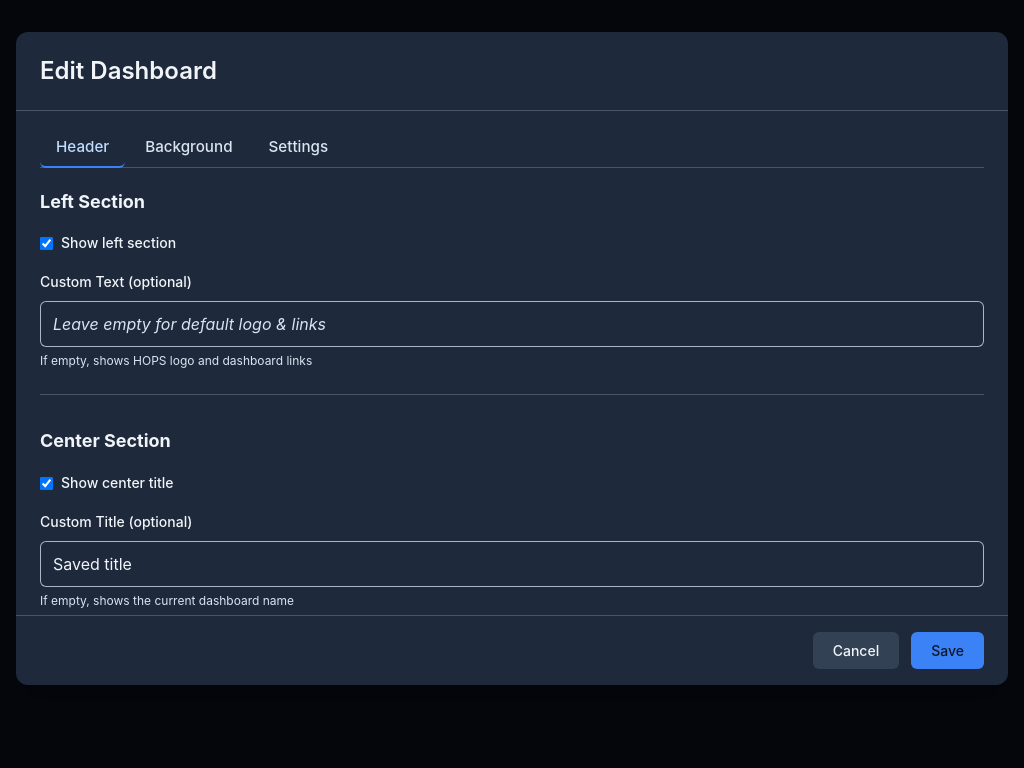
Test: DashboardEditModal: one dialog, one Save, one Cancel › has three sections: Header, Background and Settings
Click the tab "Settings". click: click(298, 148)
box: [252,127,344,168]
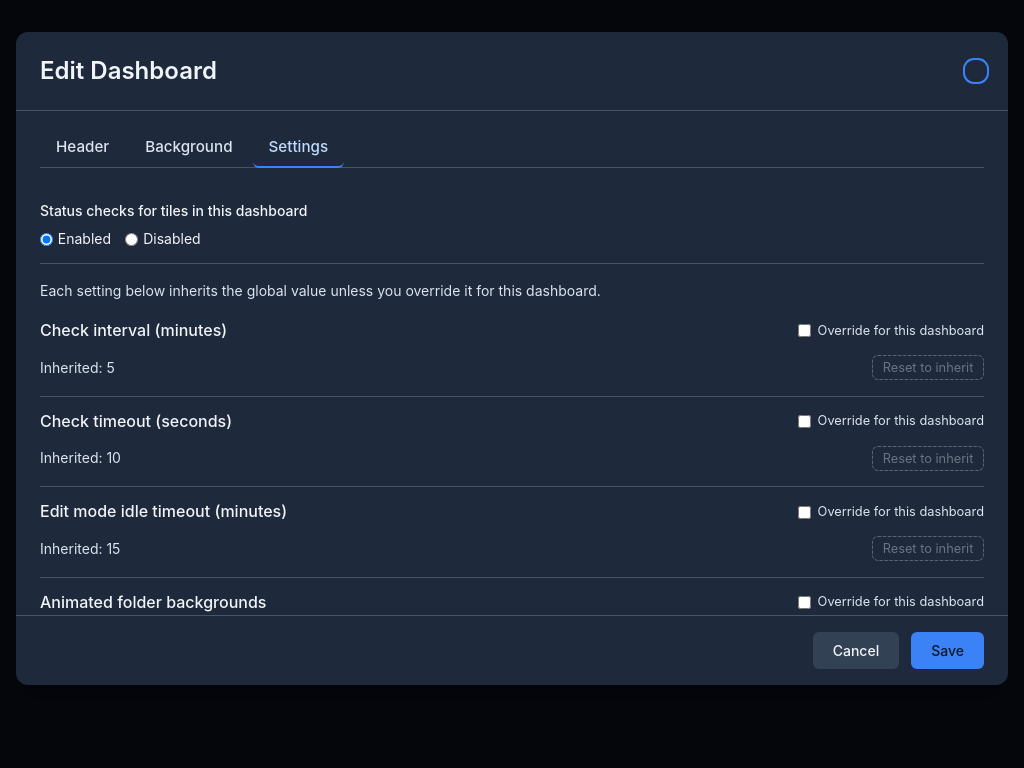
Result: the text "Inherited: 15" is shown at [40,540,120,557]
